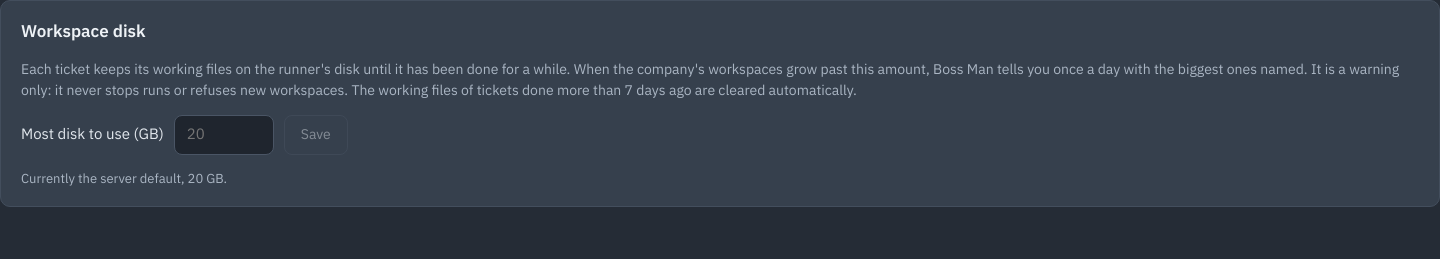
workspace disk cap setting (BOS-274) › shows the server default and saves a new cap in GB
The width and height of the screenshot is (1440, 259).
Expected: the text "Currently the server default, 20 GB." is shown, 21,170 -> 227,186
Type "60" into the number field labelled "Most disk to use (GB)". click: coordinates (224, 134)
box: 174,114 -> 274,154
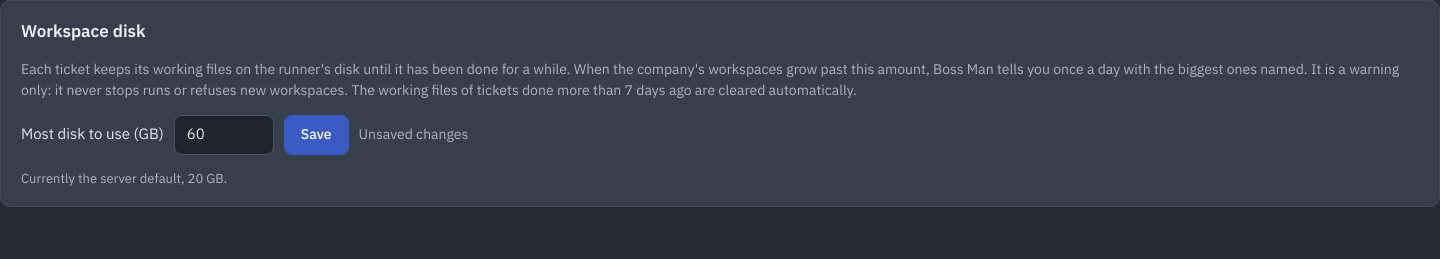
Click the button "Save". click: coordinates (316, 134)
box: 284,114 -> 349,154
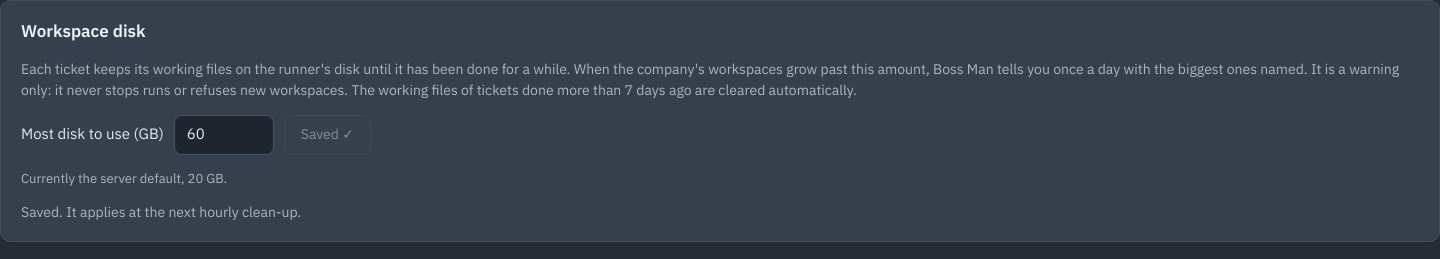
Now the text "Saved. It applies at the next hourly clean-up." is shown, box 21,203 -> 301,221
